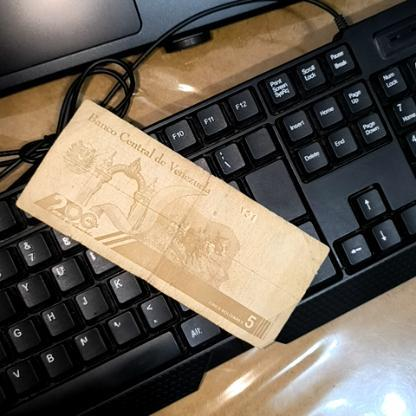five-back-vef: (14, 99, 350, 350)
